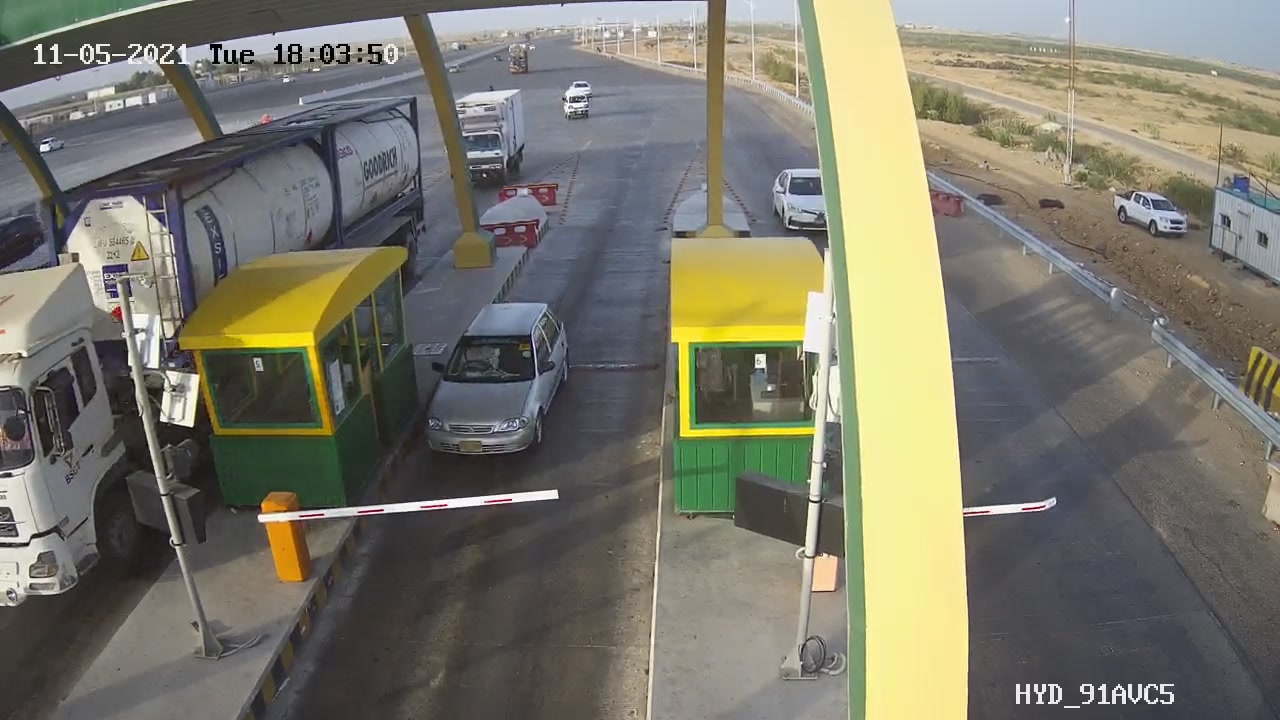F1: (396, 283, 590, 478)
